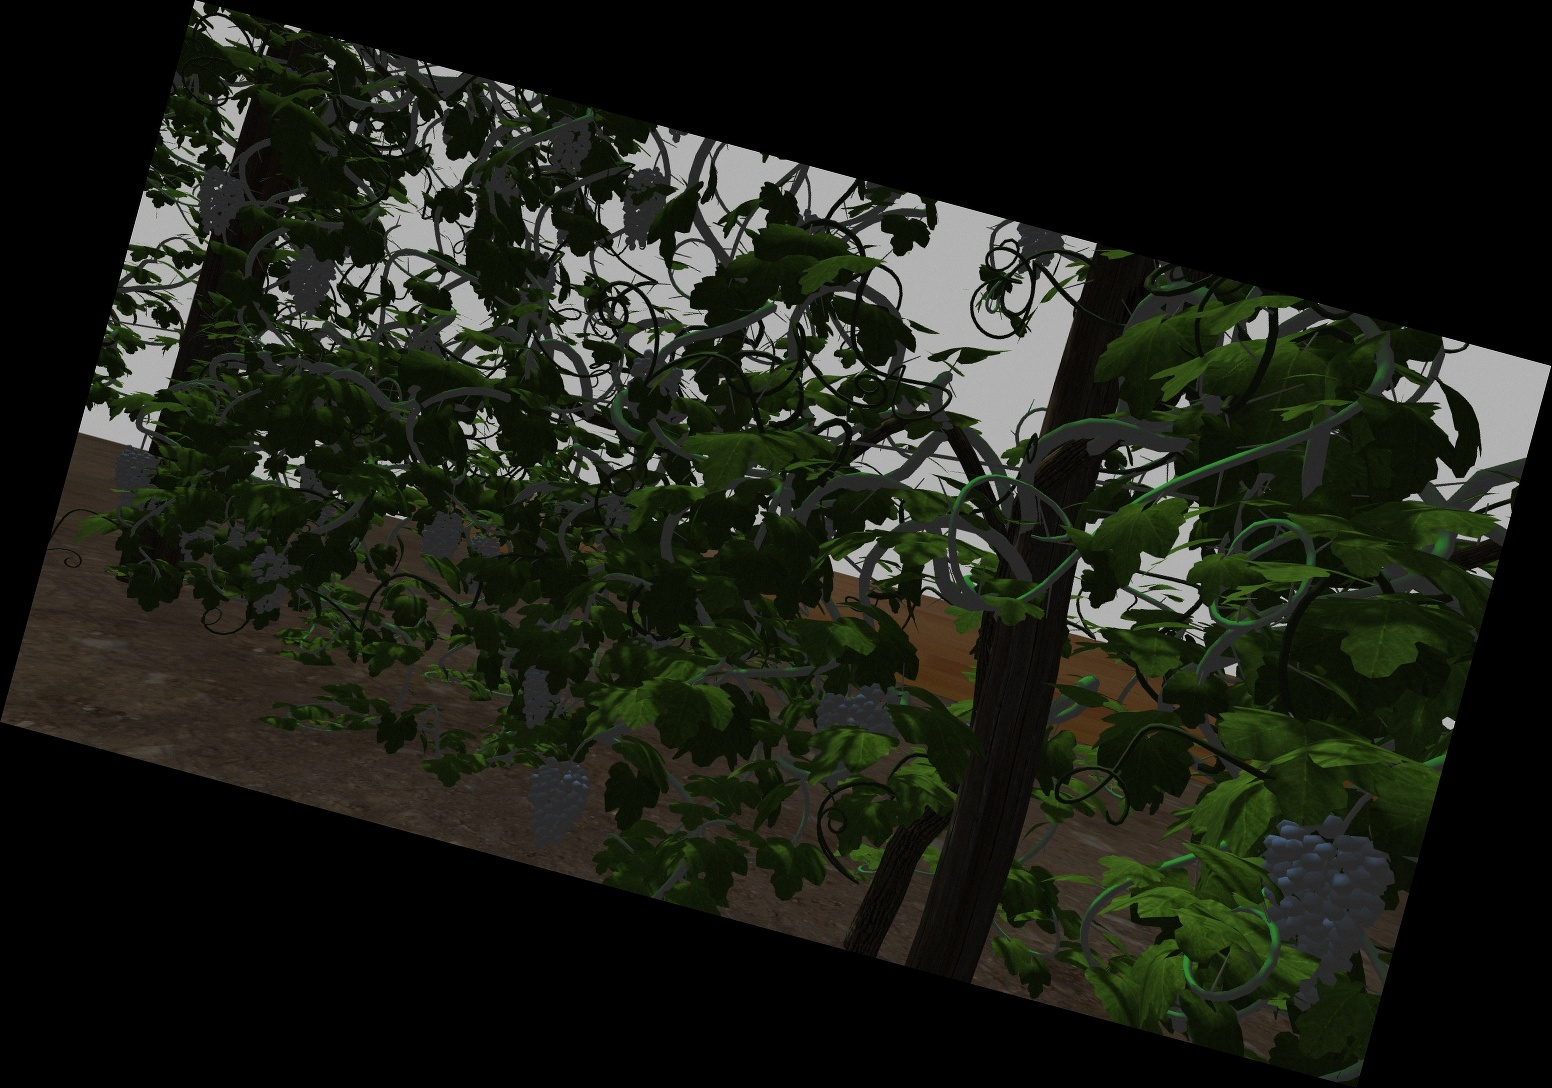grape: (1249, 813, 1381, 1009), (525, 756, 588, 853), (818, 679, 903, 737), (620, 166, 665, 248), (285, 248, 335, 316), (196, 170, 244, 236), (515, 664, 563, 728), (550, 117, 590, 176), (113, 446, 157, 492), (423, 512, 462, 560), (254, 548, 300, 587), (471, 533, 501, 558)
